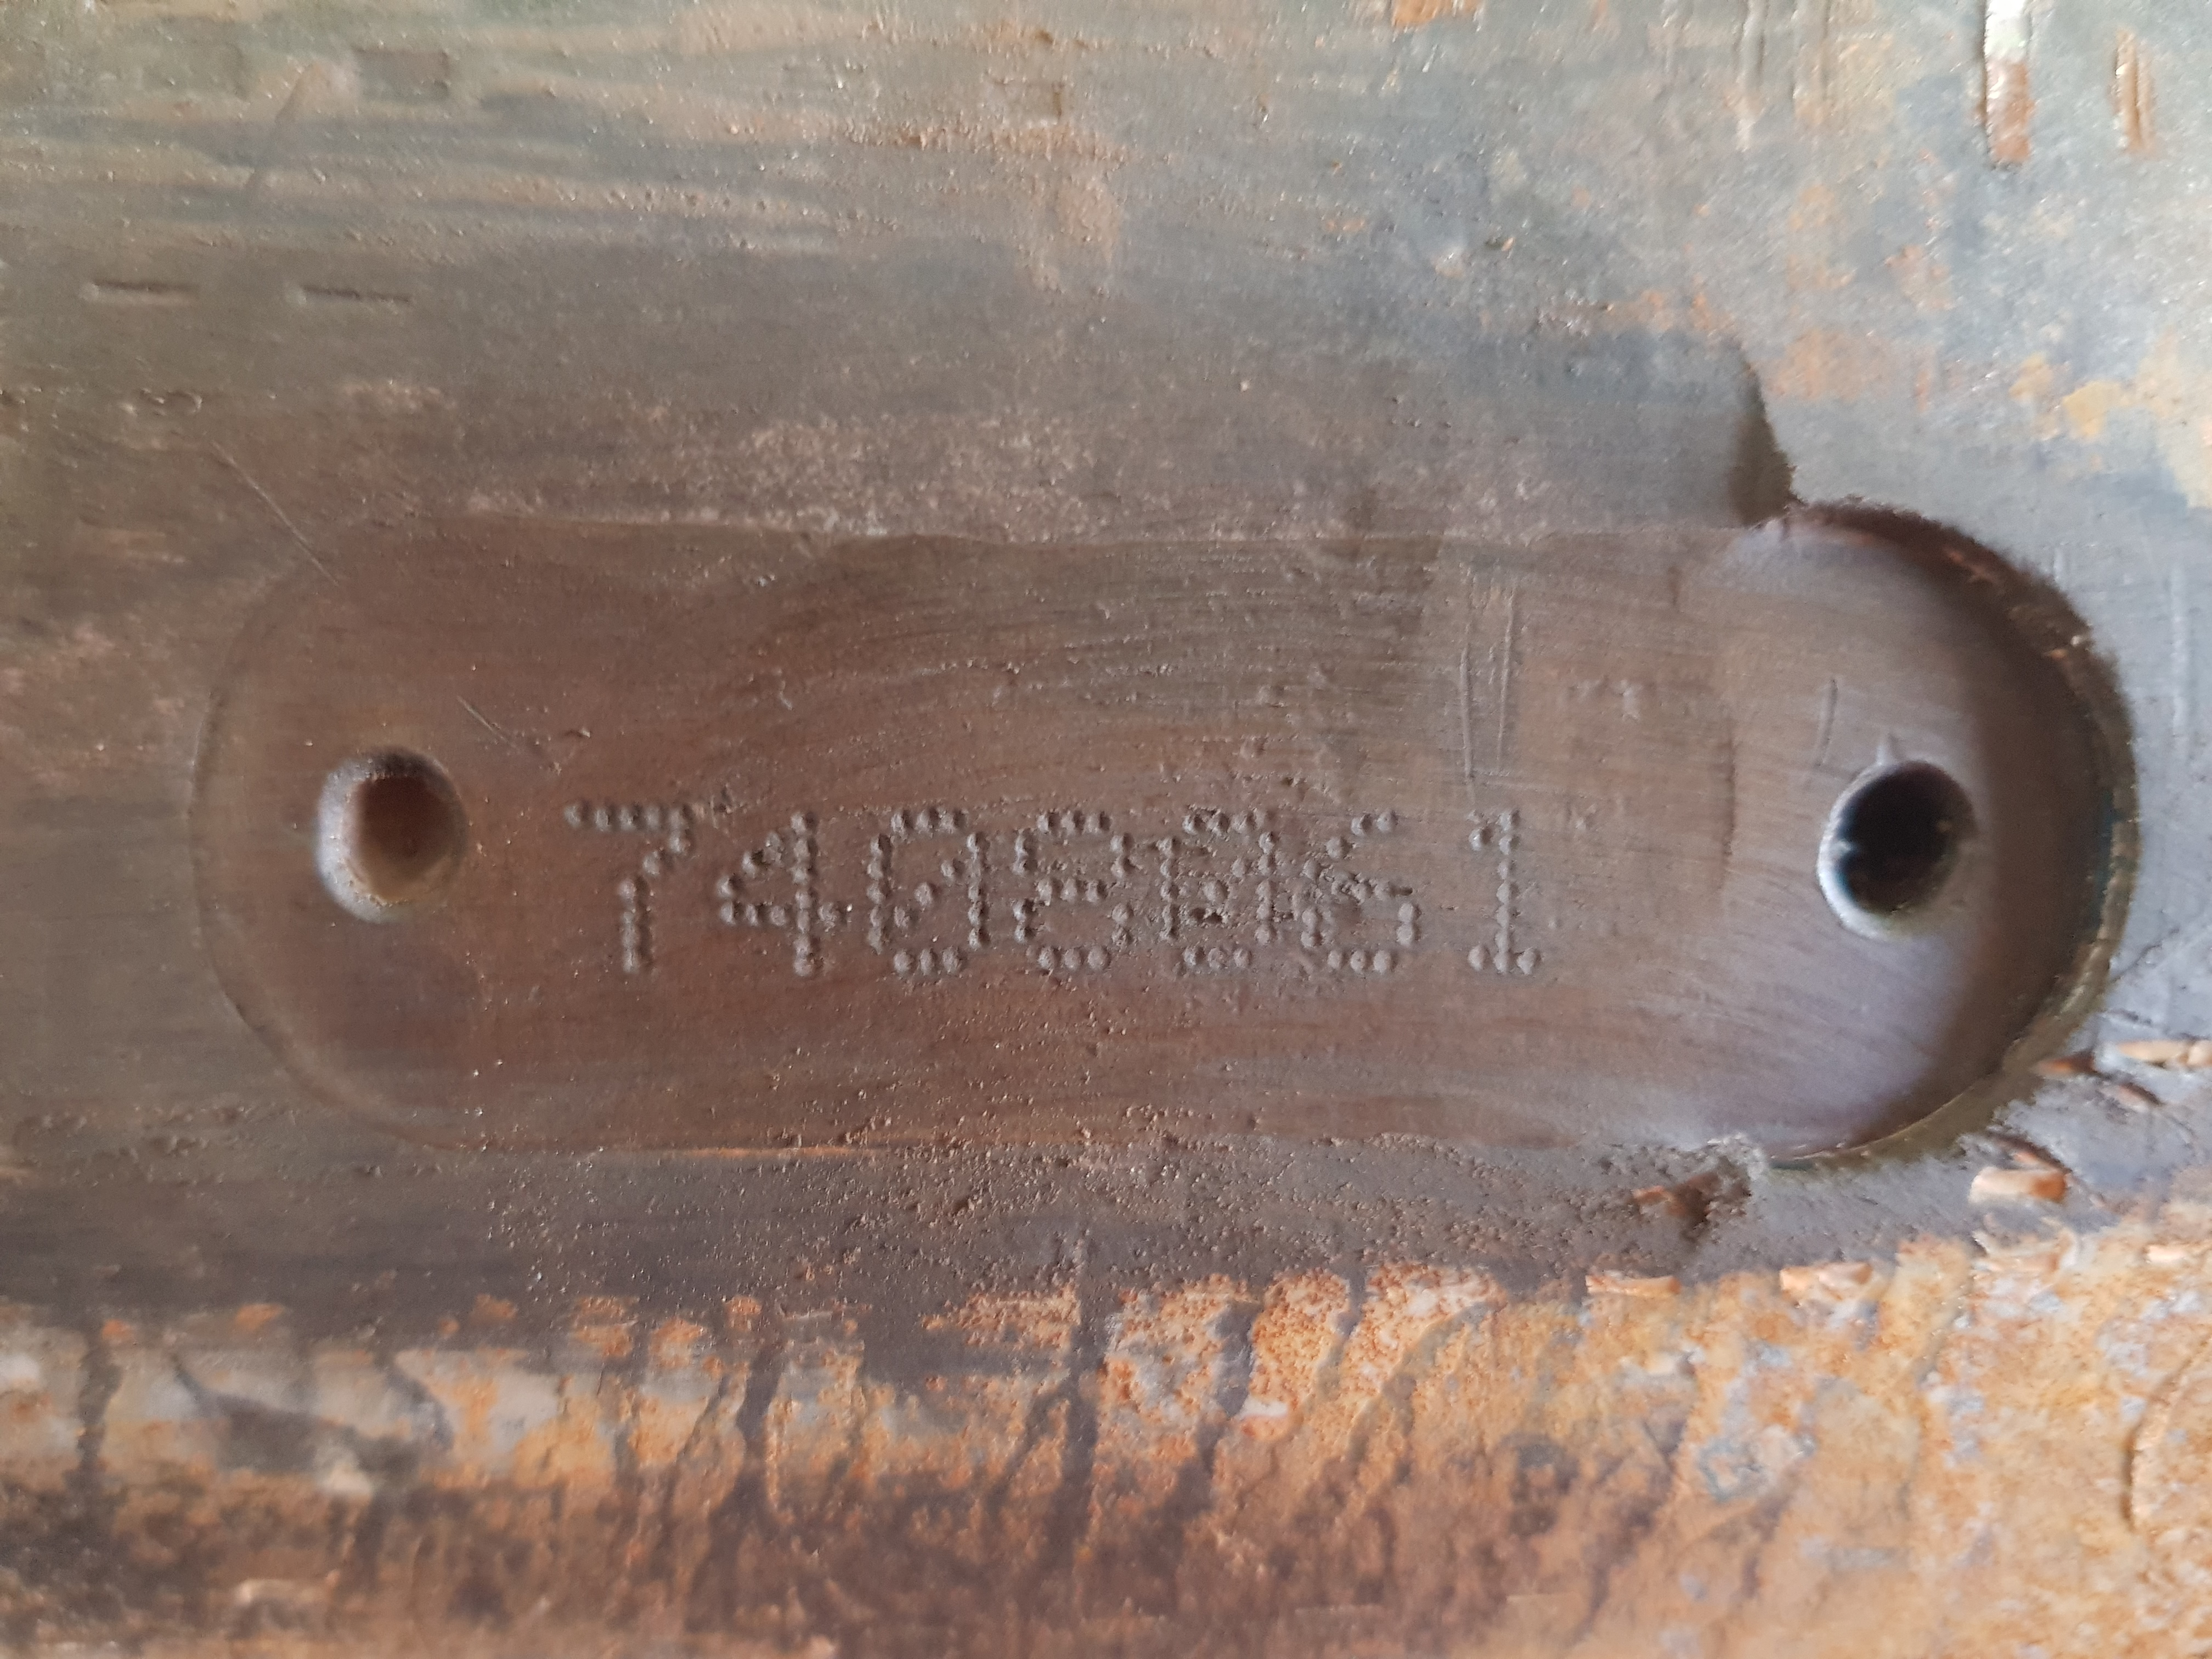character: (557, 784, 716, 1004), (1298, 795, 1437, 993), (1151, 803, 1294, 992), (1010, 788, 1144, 986), (712, 805, 853, 986), (867, 795, 989, 993), (1447, 798, 1564, 983)
